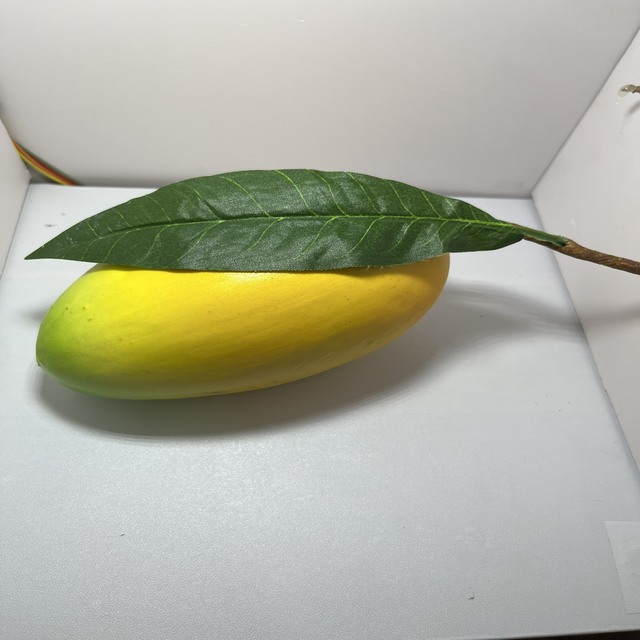Xoai: (5, 125, 481, 438)
